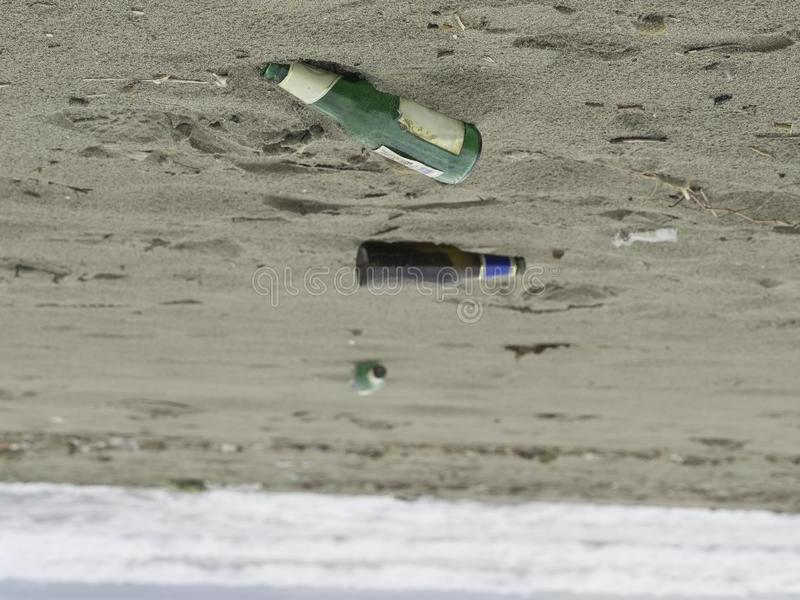Glass: (257, 57, 489, 190), (355, 238, 530, 296)
